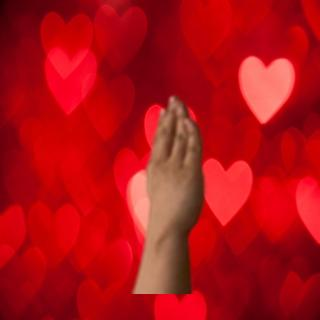RIGHT: (133, 90, 212, 240)
